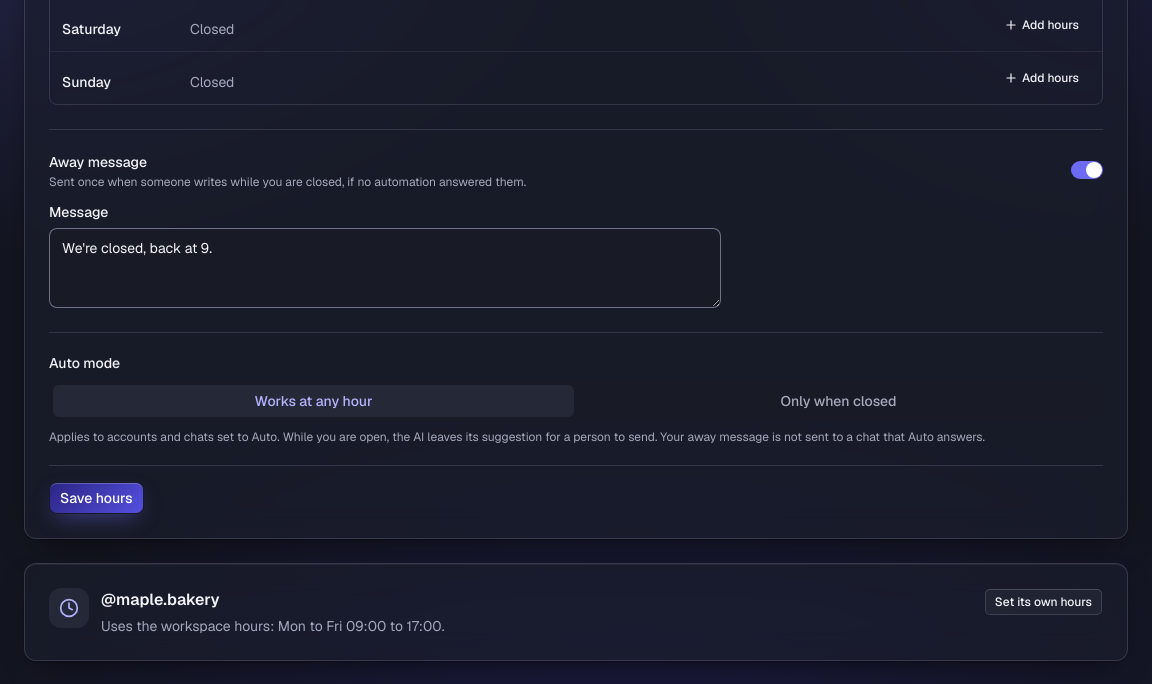
it: BusinessHoursPage (GR-22) › shows the API's message under the range it names
(page scrolled)
Click the button "Save hours" at point(96, 498), box [49,482,144,514]
(page scrolled)
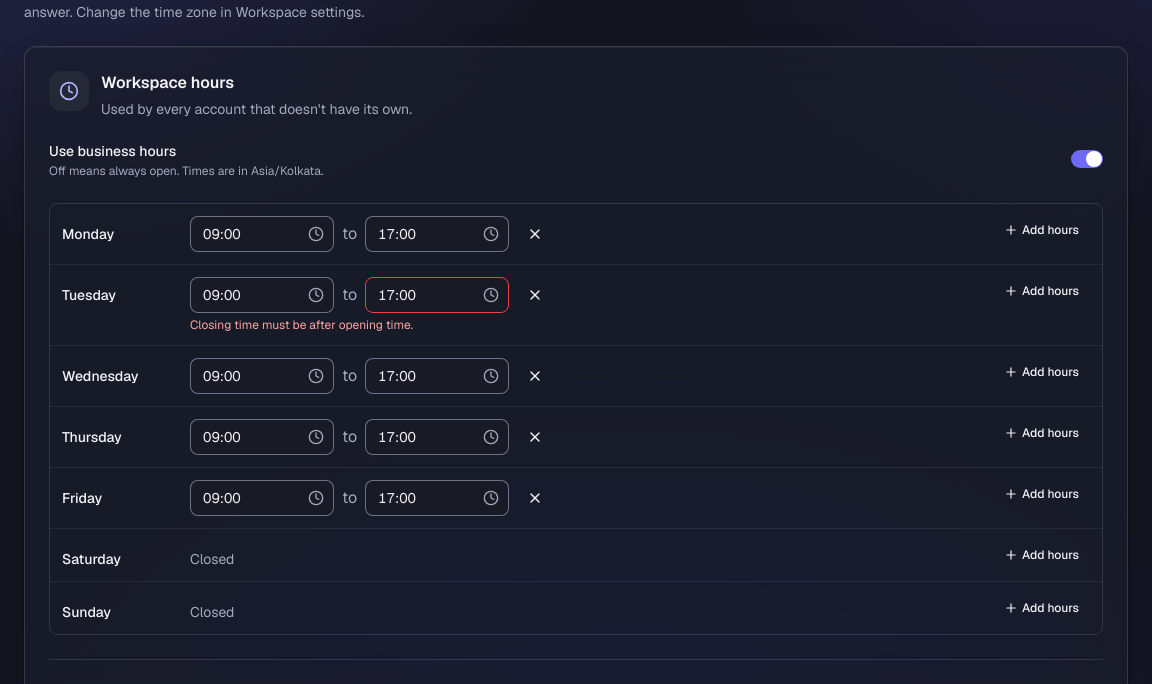
Result: the text "Closing time must be after opening time." is shown at [190,317,413,333]
